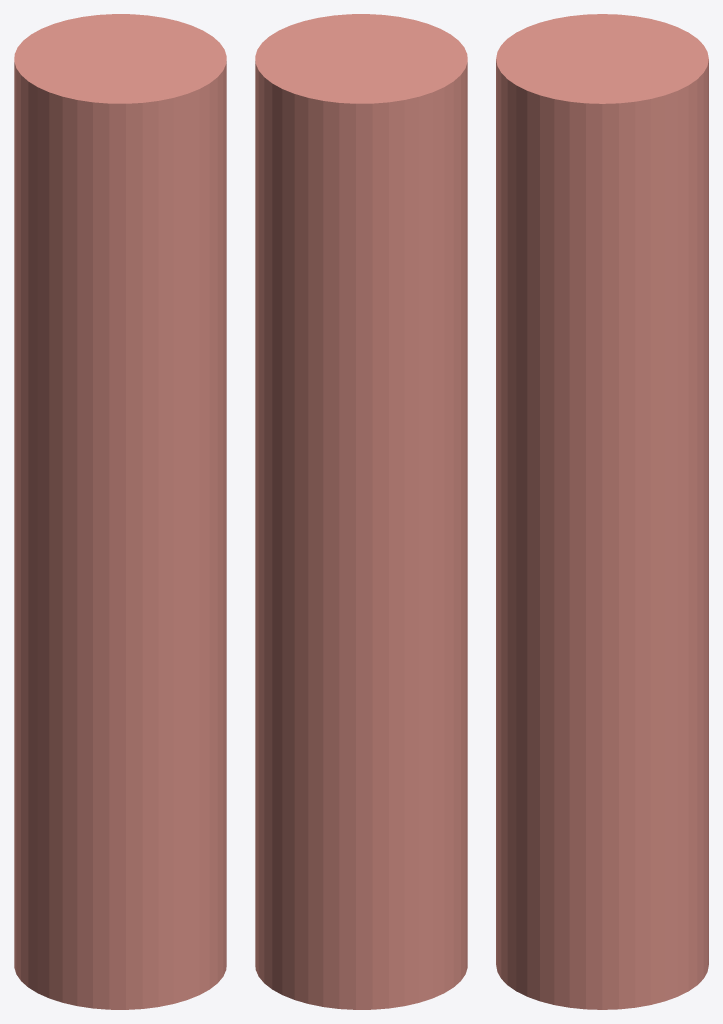
The model's file is gen_battery_04.glb.
3 views of the same model, side by side, from view 1: azimuth 30°, elevation 25°; view 2: azimuth 150°, elevation 25°; view 3: azimuth 270°, elevation 25° (orthographic).
Parts seen in each view (by area): view 1: z-up-to-y-up; view 2: z-up-to-y-up; view 3: z-up-to-y-up.
Boxes of the visible parts, x1,y1,x2,y2 form: z-up-to-y-up: [14, 14, 226, 1009]; z-up-to-y-up: [255, 14, 467, 1009]; z-up-to-y-up: [496, 14, 708, 1009].
Size of the model in its own units: 0.0117 by 0.0549 by 0.0117.
